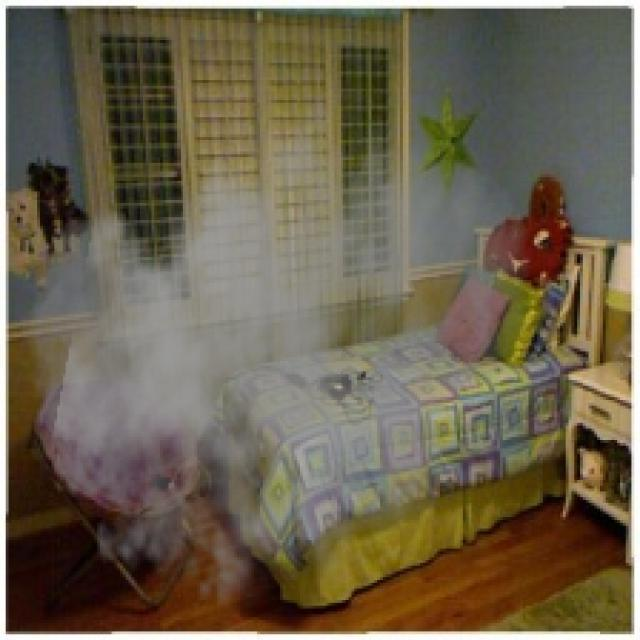Smoke: (14, 74, 534, 626)
